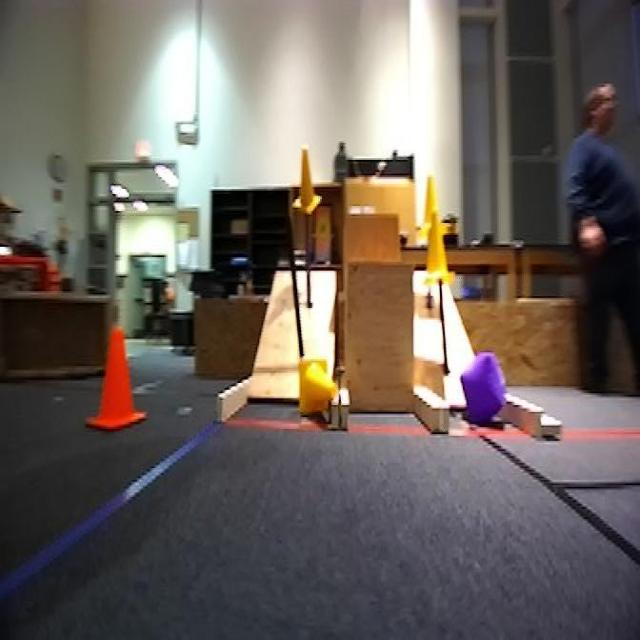frc_cone: (299, 357, 343, 419), (425, 213, 455, 279), (294, 148, 324, 213), (424, 177, 446, 240)
frc_cube: (461, 354, 504, 422)
